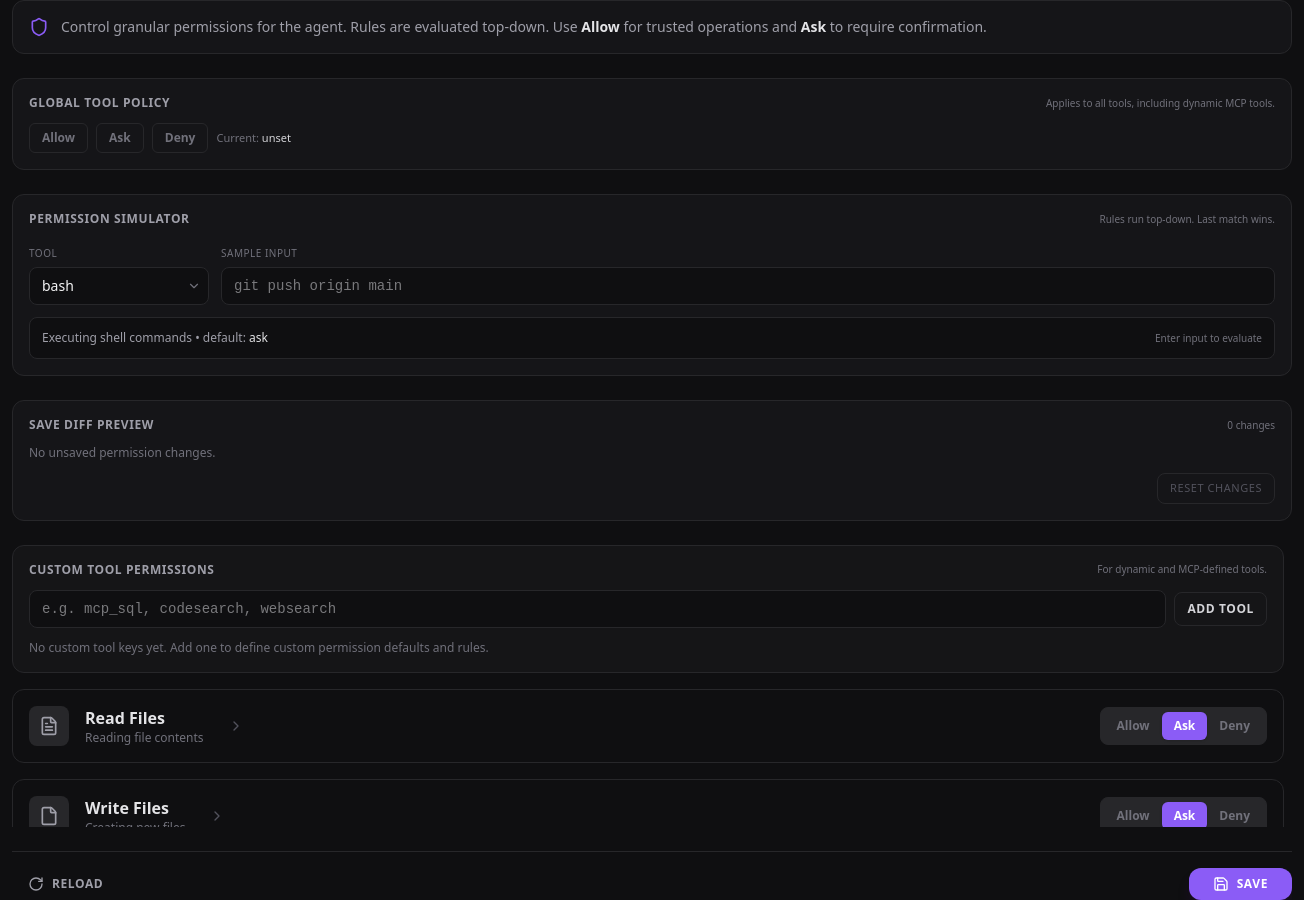
Test: PermissionsSettings Component › Permission Rules Section › shows "No exception rules defined" when rules array is empty
This screenshot has width=1304, height=900.
# Expand the Read Files section
What coordinates should you click on to do the following:
click the text "Read Files"
I would click on:
 (125, 718)
Its box is [85,706,165,728].
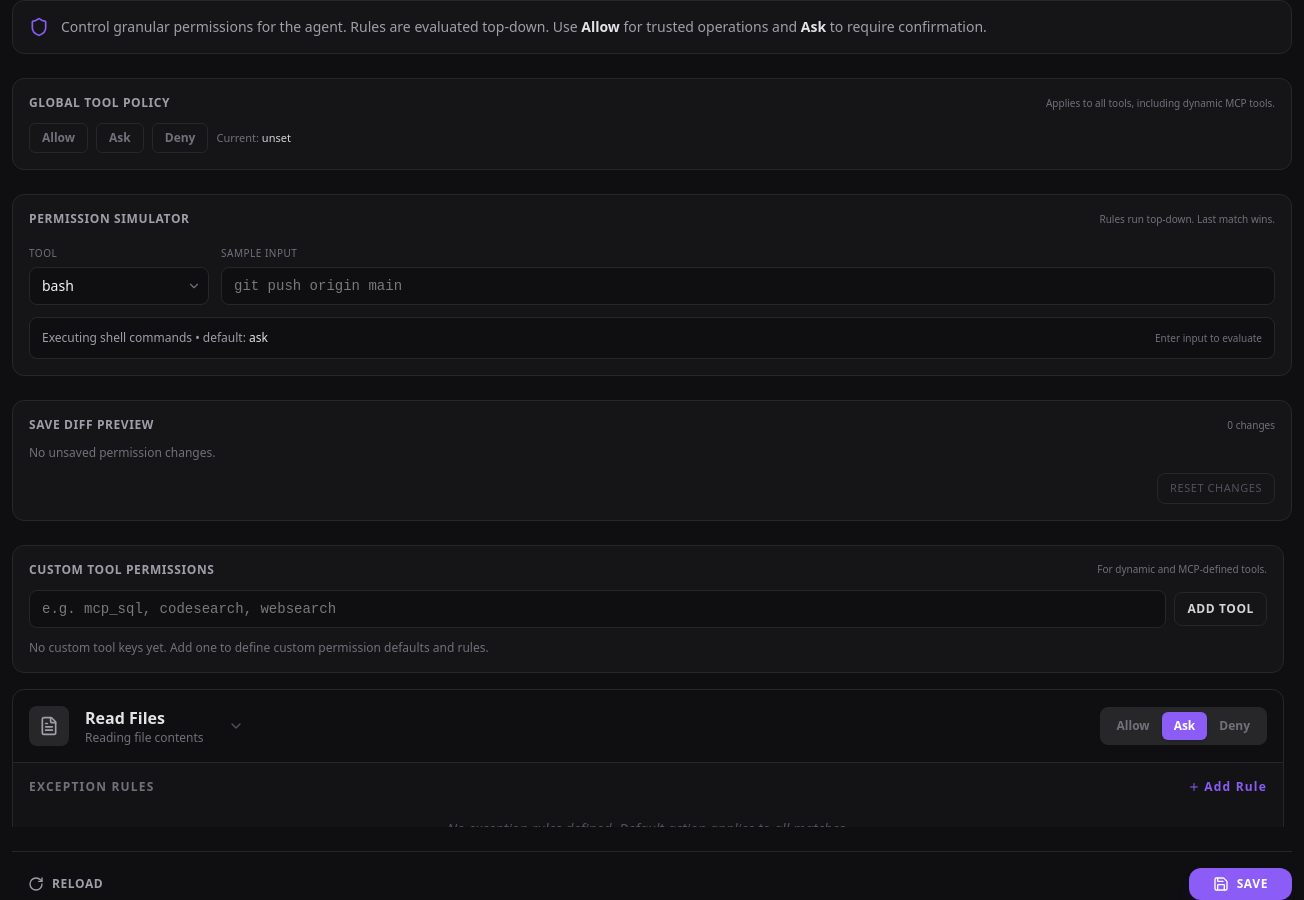
Now the button "Add Rule" is shown, box [1188,778,1267,794]
